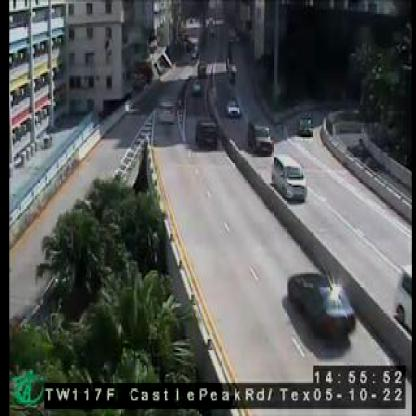Car: (286, 272, 352, 336), (270, 152, 306, 200), (247, 120, 272, 149), (196, 120, 217, 147), (155, 101, 174, 123), (296, 113, 314, 135), (226, 99, 241, 116)
